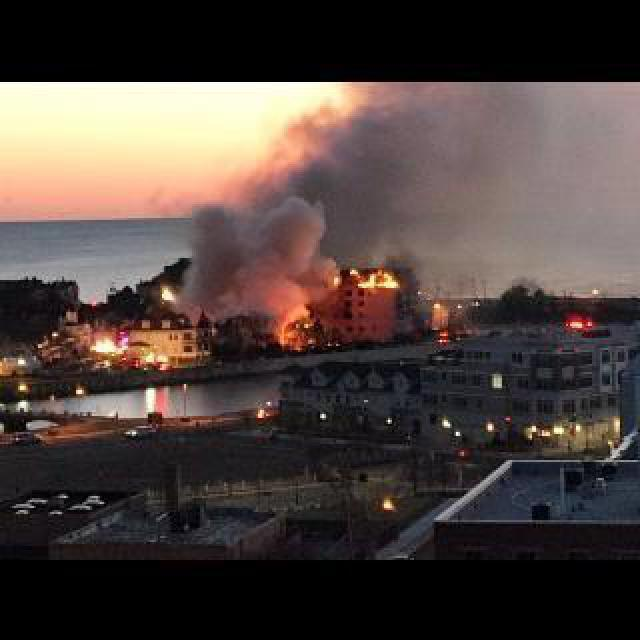Fire: (334, 254, 410, 292), (88, 336, 132, 354), (156, 284, 174, 300)
Smoke: (246, 82, 636, 260), (182, 184, 342, 316)
